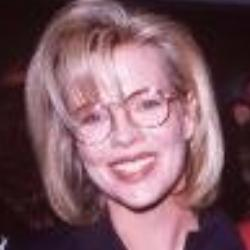face: (11, 3, 236, 234)
